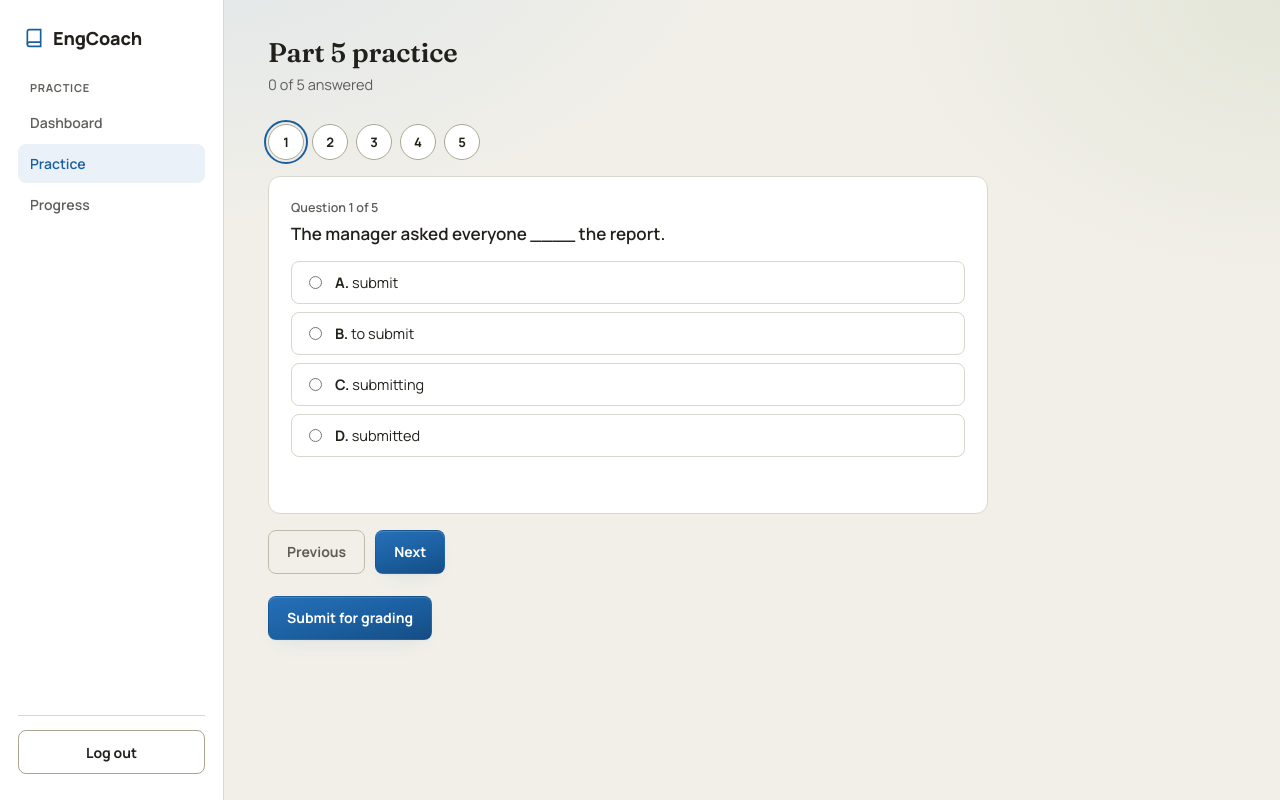
Scenario: Test screen (S7b) › a failed save keeps the selection, shows an error, and Retry saves it
Click the radio button labelled "D. submitted".
click(316, 435)  # box [309,429,322,442]
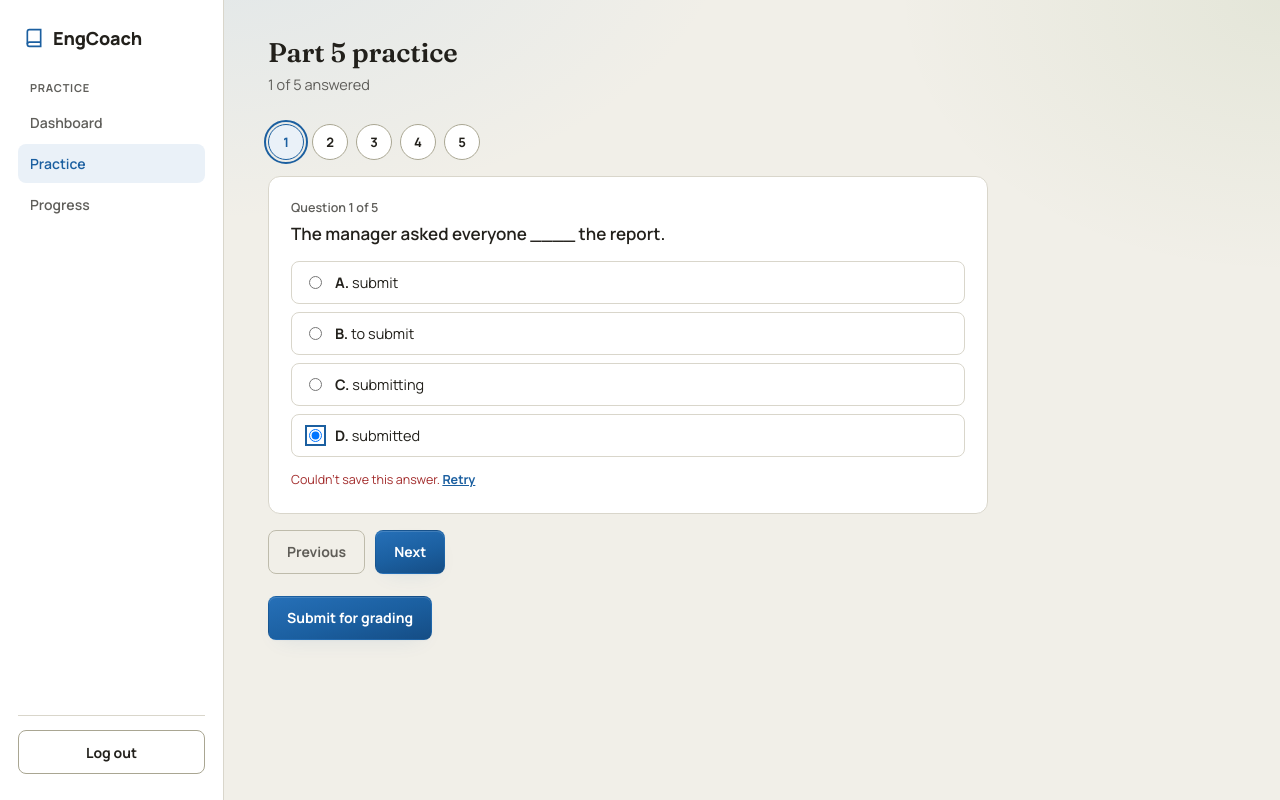
Result: the radio button labelled "D. submitted" is checked at [309,429,322,442]
Result: the text "Couldn't save this answer. Retry" is shown at [291,471,475,488]
Click the button "Retry".
click(459, 479)  # box [442,471,475,488]
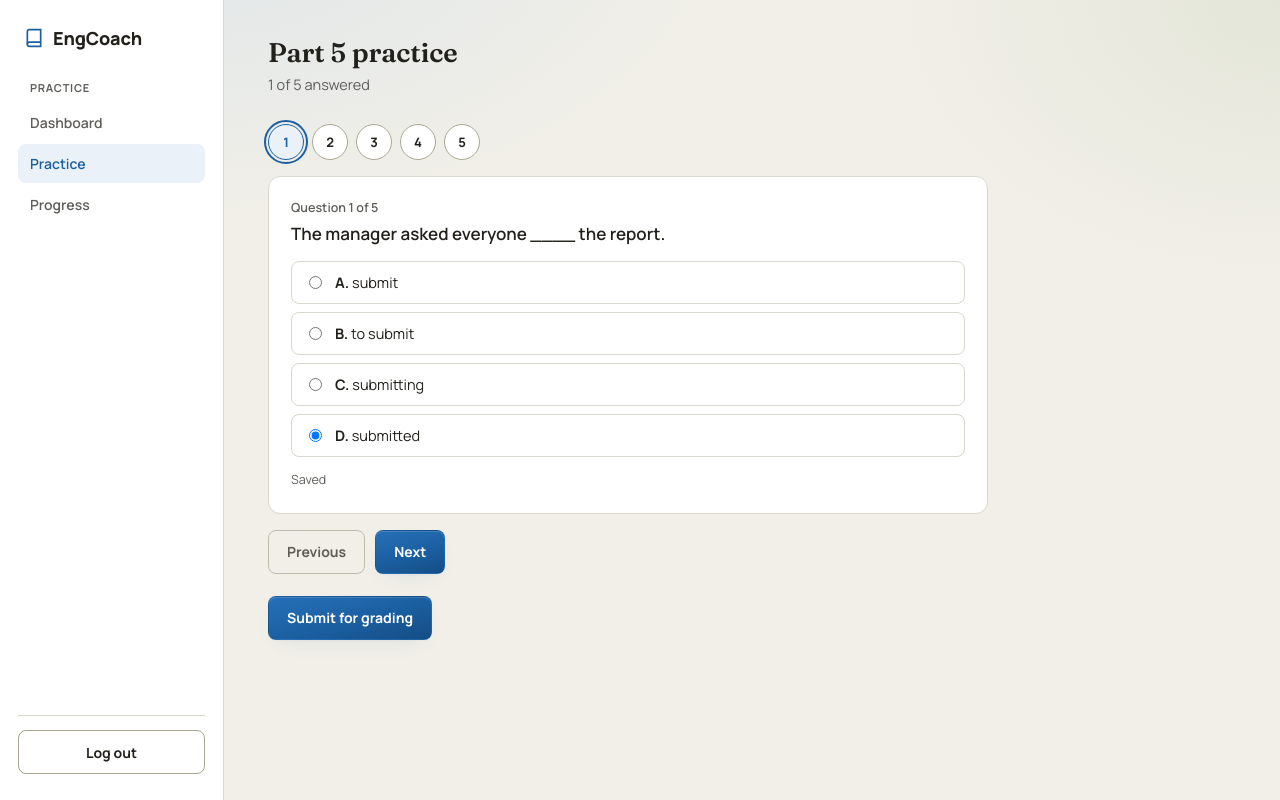
Result: the text "Saved" is shown at [291,471,326,488]
